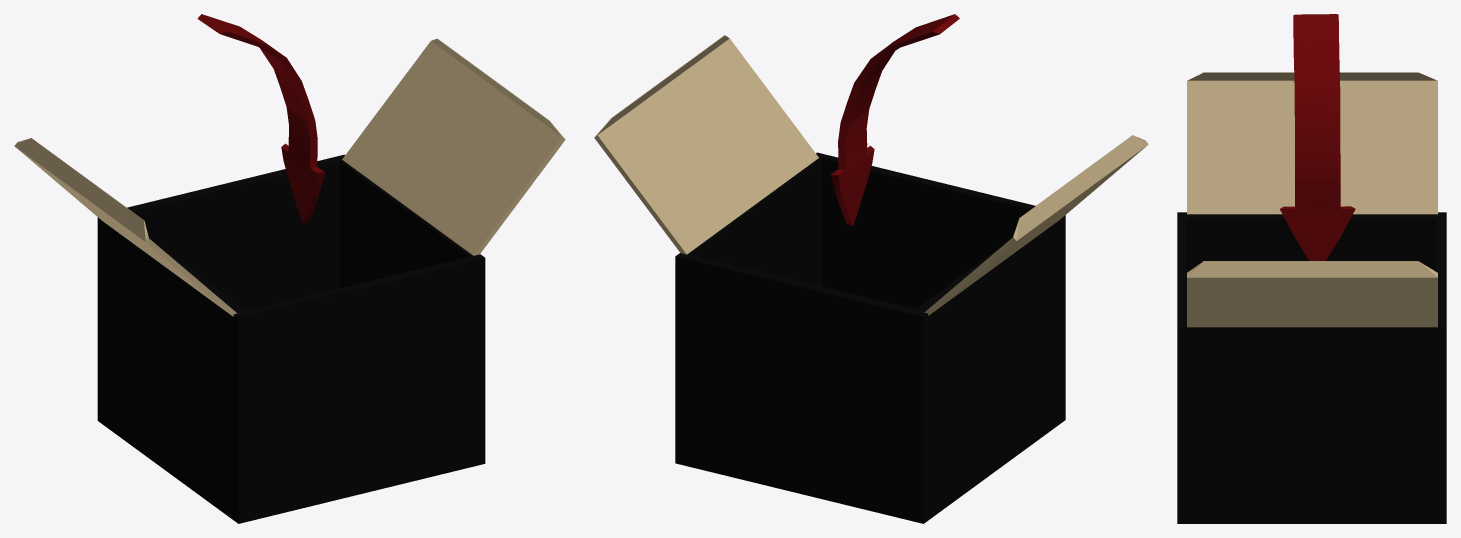
The model's file is IconPack.fbx.
3 views of the same model, side by side, from view 1: azimuth 30°, elevation 25°; view 2: azimuth 150°, elevation 25°; view 3: azimuth 270°, elevation 25° (orthographic). The views are drawn at different scales.
Parts seen in each view (by area): view 1: Box, pCube2; view 2: Box, pCube2; view 3: Box, pCube2.
Boxes of the visible parts, bbox=[...] form: Box: bbox=[14, 38, 565, 523]; pCube2: bbox=[197, 14, 325, 223]; Box: bbox=[594, 35, 1148, 523]; pCube2: bbox=[830, 14, 959, 225]; Box: bbox=[1177, 72, 1446, 523]; pCube2: bbox=[1280, 14, 1355, 260].
Size of the model in its own units: 0.1706 by 0.1694 by 0.0992.
